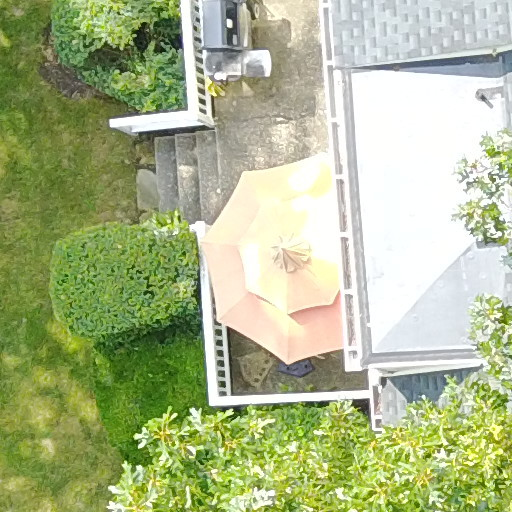umbrella: (187, 129, 406, 377)
